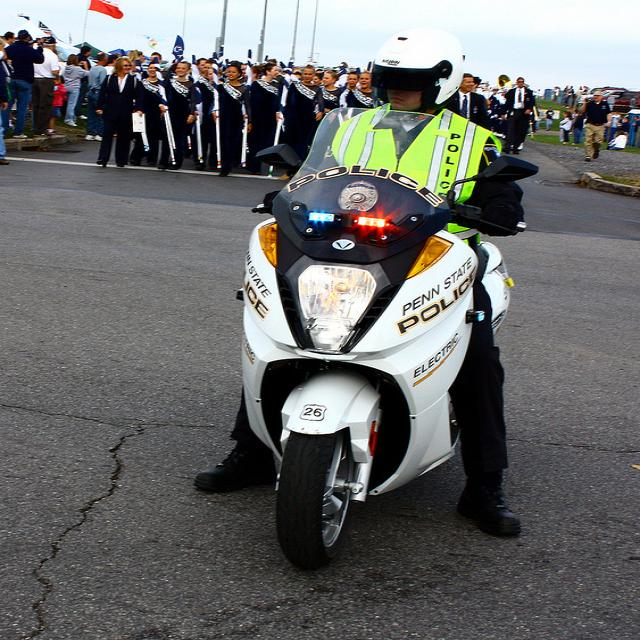motor: (235, 152, 542, 568)
